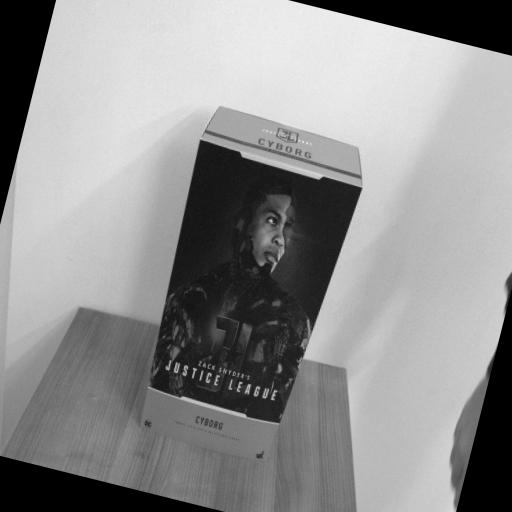Cyborg: (128, 104, 373, 470)
